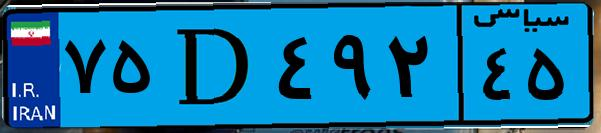2: (385, 28, 445, 110)
4: (270, 28, 330, 110), (475, 38, 525, 113)
5: (525, 38, 570, 115), (110, 28, 158, 98)
7: (57, 26, 110, 100)
9: (330, 28, 385, 110)
D: (158, 12, 270, 120)
